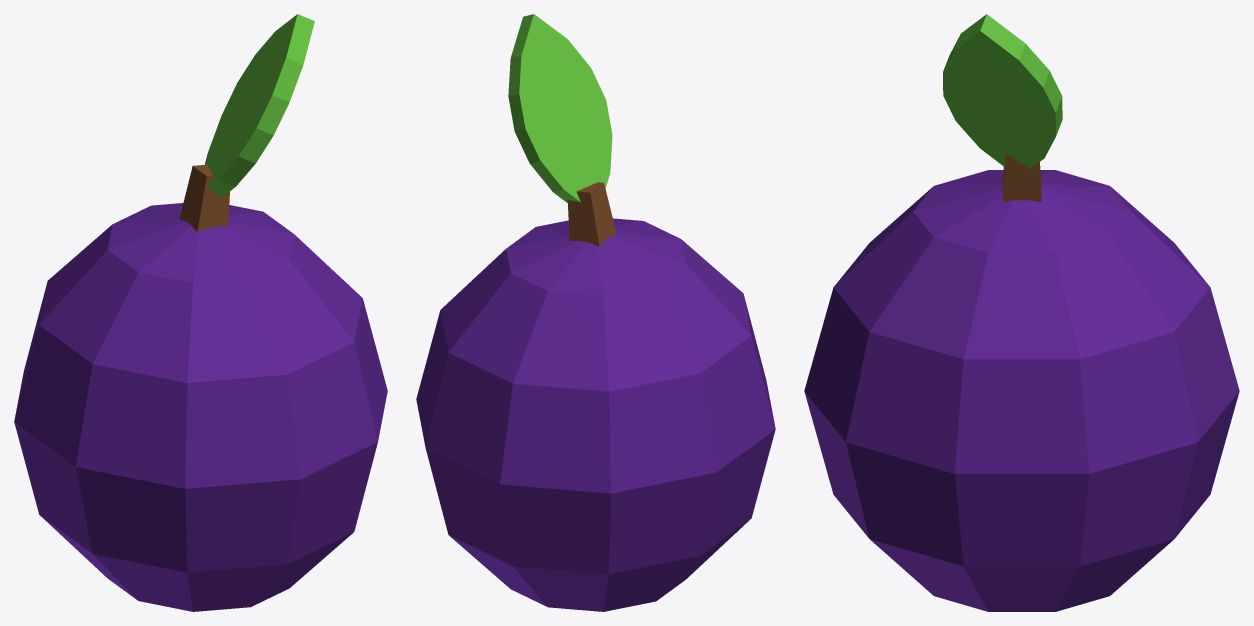
Rendered from Plum.fbx.
The picture shows the model from 3 angles, left to right: view 1: azimuth 30°, elevation 25°; view 2: azimuth 150°, elevation 25°; view 3: azimuth 270°, elevation 25°; orthographic projection. The views are drawn at different scales.
Parts seen in each view (by area): view 1: Plum; view 2: Plum; view 3: Plum.
Boxes of the visible parts, <box> form: Plum: <box>14,14,387,611</box>; Plum: <box>416,14,775,611</box>; Plum: <box>804,14,1239,611</box>.
Bounding box in the file's own units: 0.9035 × 1.59 × 1.
Materials: 1 (1 with a texture image).
